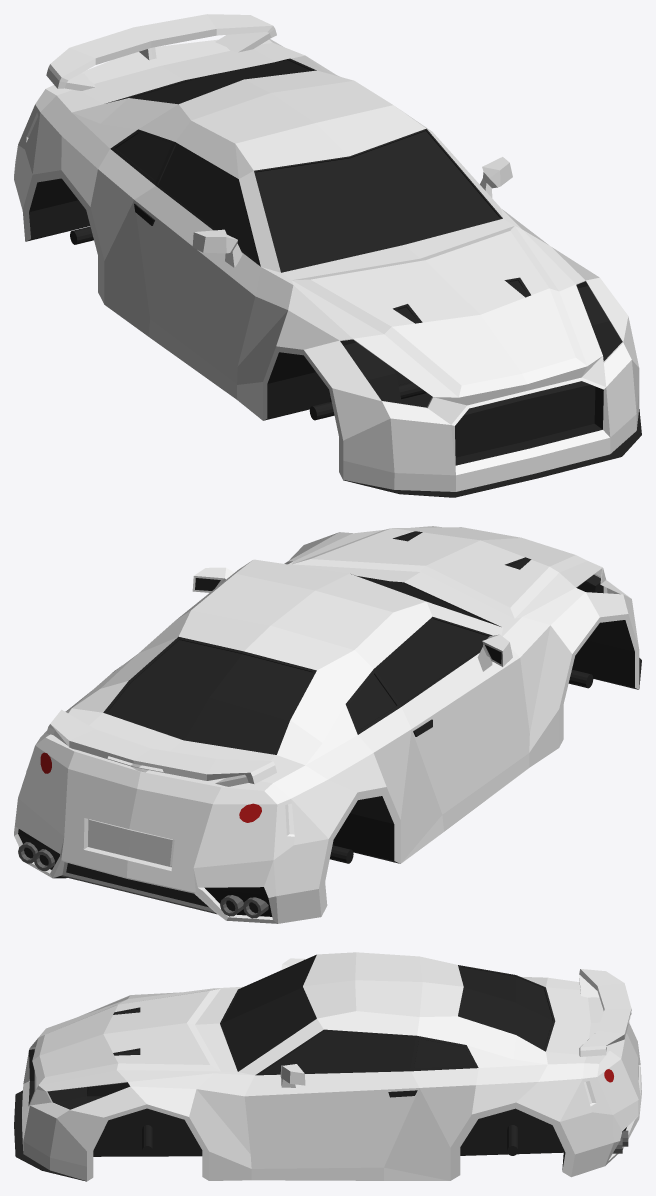
Rendered from NissanGTR35Mesh.fbx.
3 views of the same model, one above another, from view 1: azimuth 30°, elevation 25°; view 2: azimuth 150°, elevation 25°; view 3: azimuth 270°, elevation 25° (orthographic). The views are drawn at different scales.
Visible parts, largest first — view 1: NissanGT-R35; view 2: NissanGT-R35; view 3: NissanGT-R35.
Part boxes in pixels (x1,y1,x2,y2): NissanGT-R35: (14, 14, 641, 497); NissanGT-R35: (14, 526, 641, 923); NissanGT-R35: (14, 952, 641, 1181).
Size of the model in its own units: 2.03 by 1.2 by 4.68.
